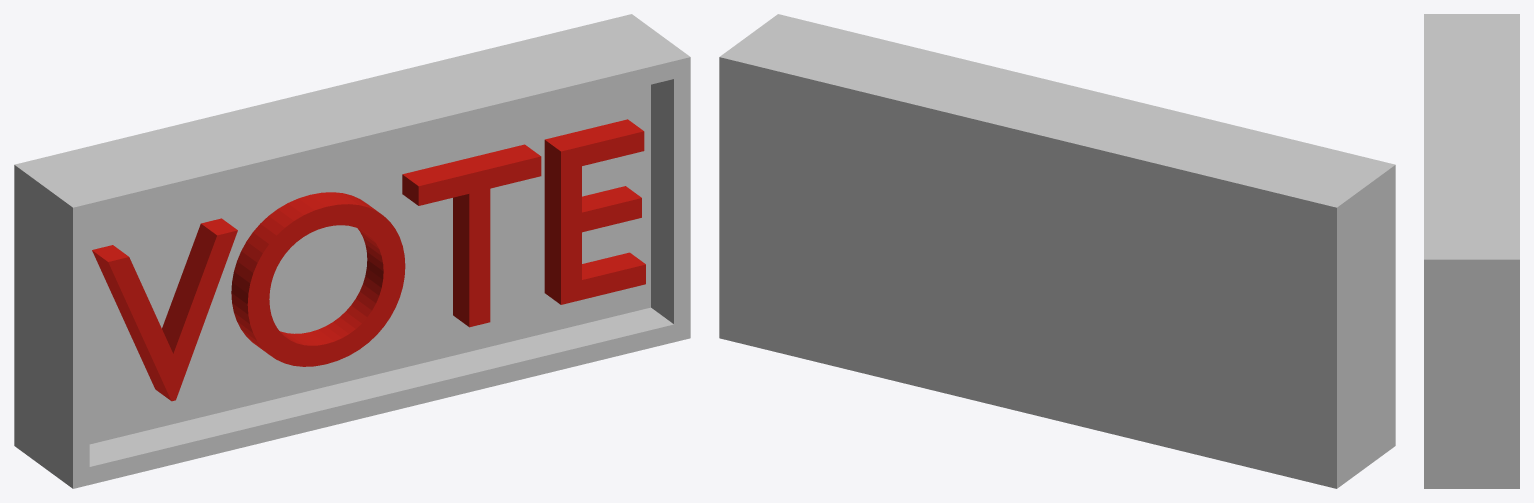
Rendered from vote.dae.
The picture shows the model from 3 angles, left to right: view 1: azimuth 30°, elevation 25°; view 2: azimuth 150°, elevation 25°; view 3: azimuth 270°, elevation 25°; orthographic projection. The views are drawn at different scales.
Parts seen in each view (by area): view 1: Cube; view 2: Cube; view 3: Cube.
Part boxes in pixels (left/top/right/bottom): Cube: left=14, top=14, right=690, bottom=488; Cube: left=719, top=14, right=1395, bottom=488; Cube: left=1424, top=14, right=1519, bottom=488.
Bounding box in the file's own units: 2 × 0.3299 × 0.8704.
